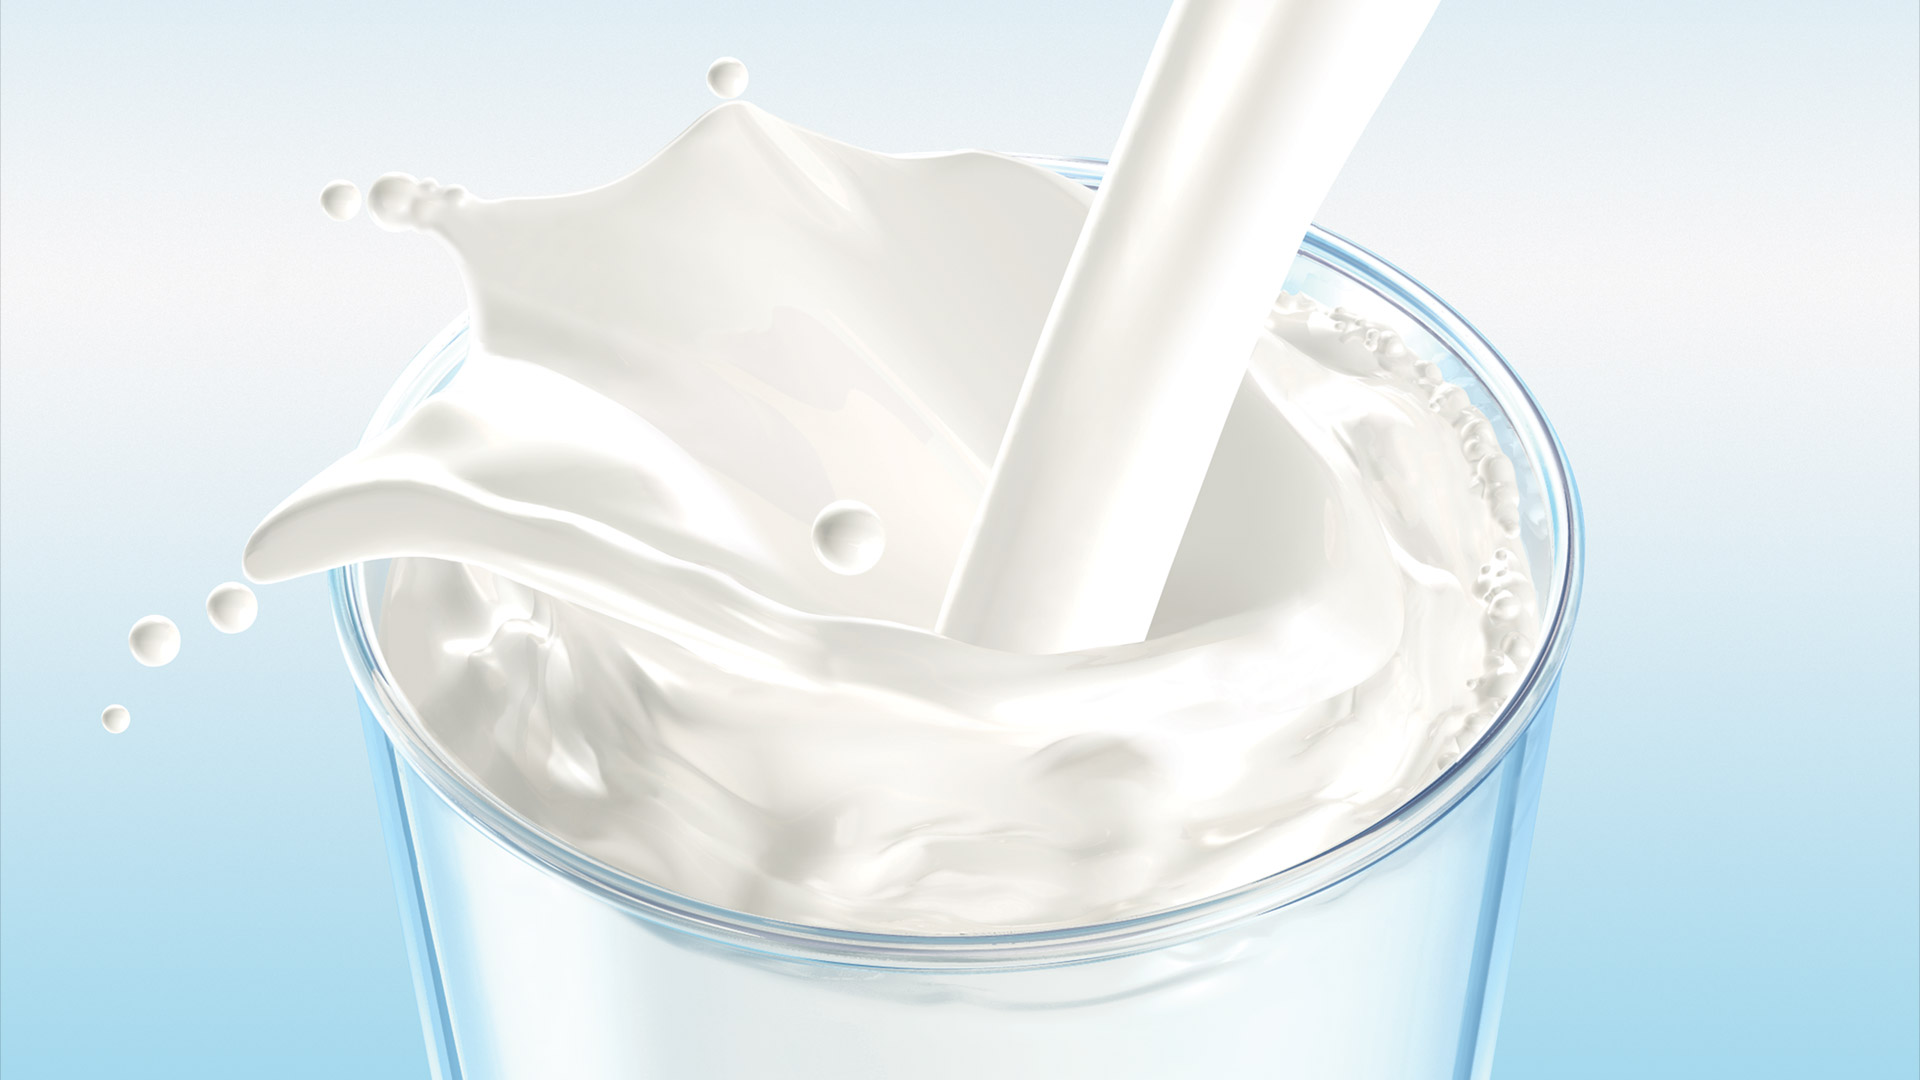glass of milk: (229, 128, 1633, 1080)
